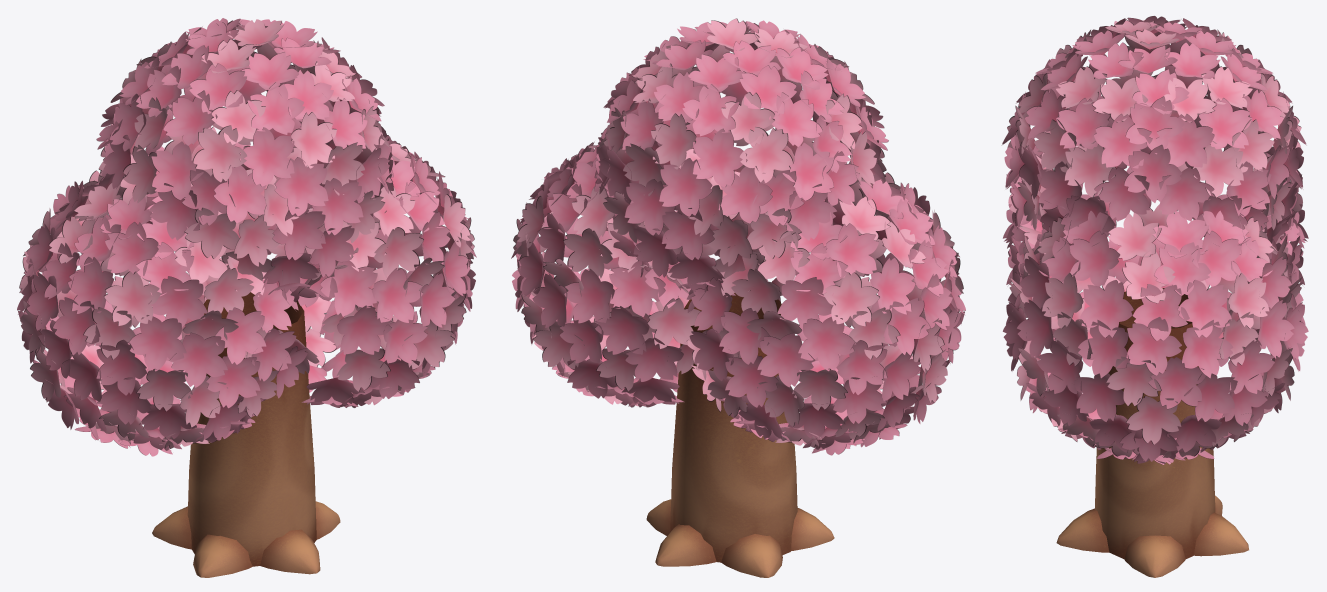
The model's file is sakura-tree.glb.
The picture shows the model from 3 angles, left to right: view 1: azimuth 30°, elevation 25°; view 2: azimuth 150°, elevation 25°; view 3: azimuth 270°, elevation 25°; orthographic projection.
Parts seen in each view (by area): view 1: polySurface122, polySurface121, polySurface117, pCylinder5, pCone14; view 2: polySurface122, polySurface121, polySurface117, pCylinder5, pCone14; view 3: polySurface117, polySurface122, pCylinder5, polySurface121, pCone14.
Boxes of the visible parts, box(x1,y1,x2,y2) form: polySurface122: box(96, 18, 393, 302); polySurface121: box(17, 170, 307, 456); polySurface117: box(187, 121, 476, 407); pCylinder5: box(187, 292, 316, 566); pCone14: box(152, 501, 340, 577); polySurface122: box(594, 18, 888, 295); polySurface121: box(686, 172, 965, 455); polySurface117: box(511, 122, 783, 407); pCylinder5: box(670, 293, 797, 562); pCone14: box(646, 499, 834, 577); polySurface117: box(1003, 210, 1308, 464); polySurface122: box(1002, 16, 1306, 258); pCylinder5: box(1095, 288, 1215, 558); polySurface121: box(1003, 106, 1308, 366); pCone14: box(1056, 495, 1248, 577).
Size of the model in its own units: 0.0433 by 0.0503 by 0.0281.
Materials: 2 (2 with a texture image).
